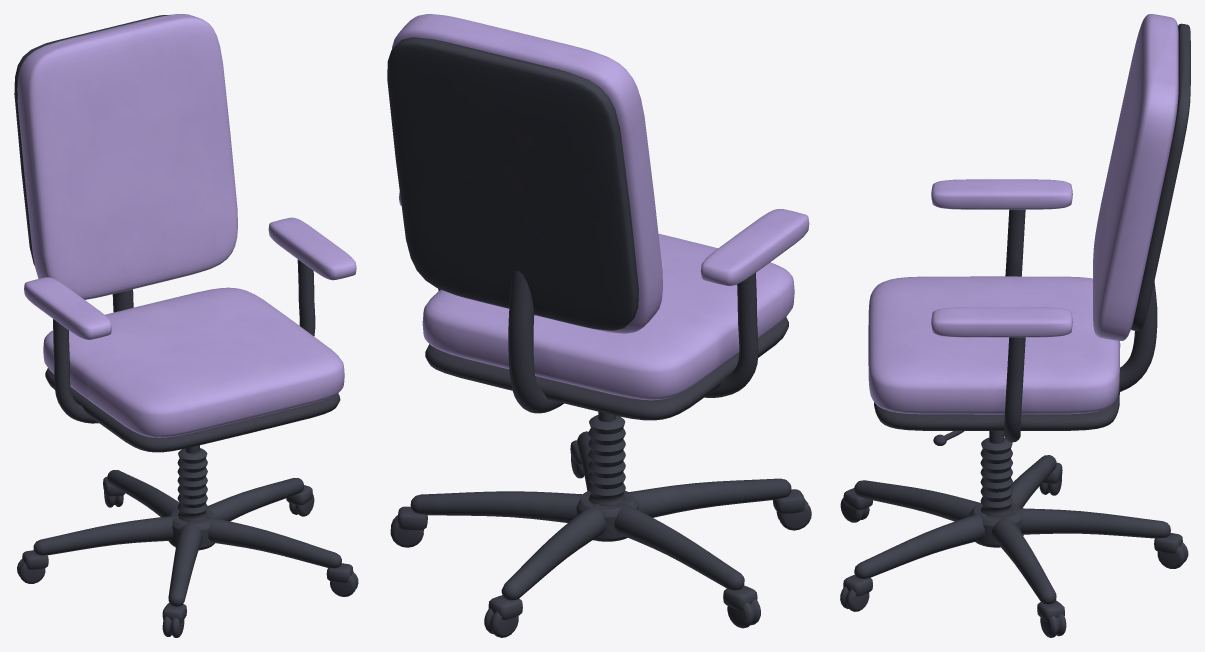
Rendered from office-chair.obj.
3 views of the same model, side by side, from view 1: azimuth 30°, elevation 25°; view 2: azimuth 150°, elevation 25°; view 3: azimuth 270°, elevation 25° (orthographic). The views are drawn at different scales.
Visible parts, largest first — view 1: office-chair_body; view 2: office-chair_body; view 3: office-chair_body.
Part boxes in pixels (x1,y1,x2,y2): office-chair_body: (14,14,358,637); office-chair_body: (387,14,811,637); office-chair_body: (840,14,1190,637).
Bounding box in the file's own units: 0.698 × 1.08 × 0.6681.
